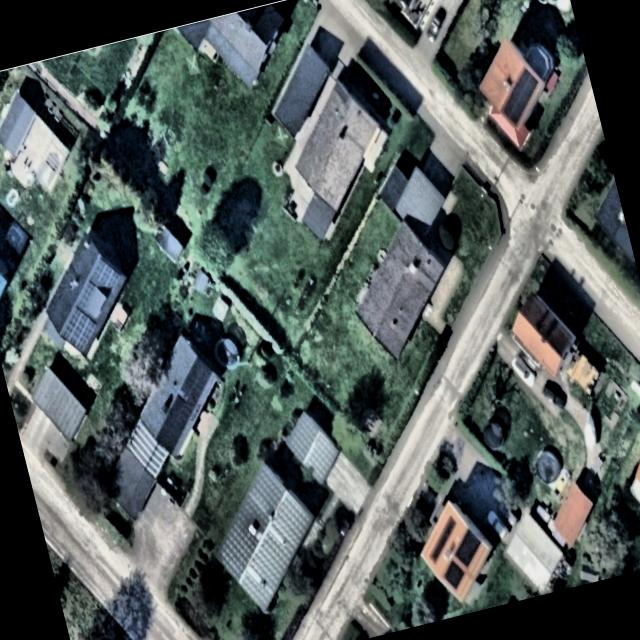roof_pv: (494, 66, 549, 132), (150, 396, 199, 450), (57, 306, 102, 364), (175, 354, 221, 409), (419, 514, 465, 565), (448, 524, 490, 570), (88, 252, 128, 300), (438, 554, 469, 592), (70, 277, 100, 307)
